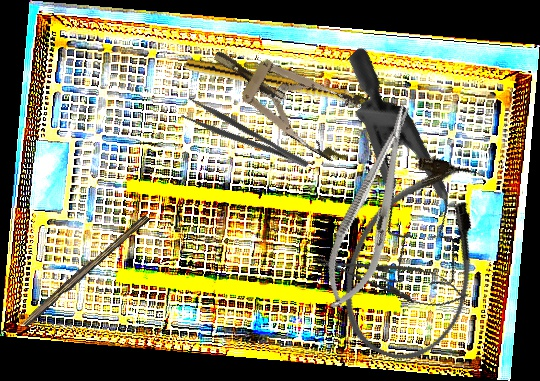Cannula: (323, 142, 510, 375)
Dressing Forceps: (178, 95, 312, 181)
Handpiece: (184, 58, 374, 110)
Needle Holder: (311, 97, 432, 319), (310, 242, 473, 316)
Scalpel Handle: (20, 210, 150, 330)
Speculum: (251, 44, 530, 319), (198, 22, 381, 170)
